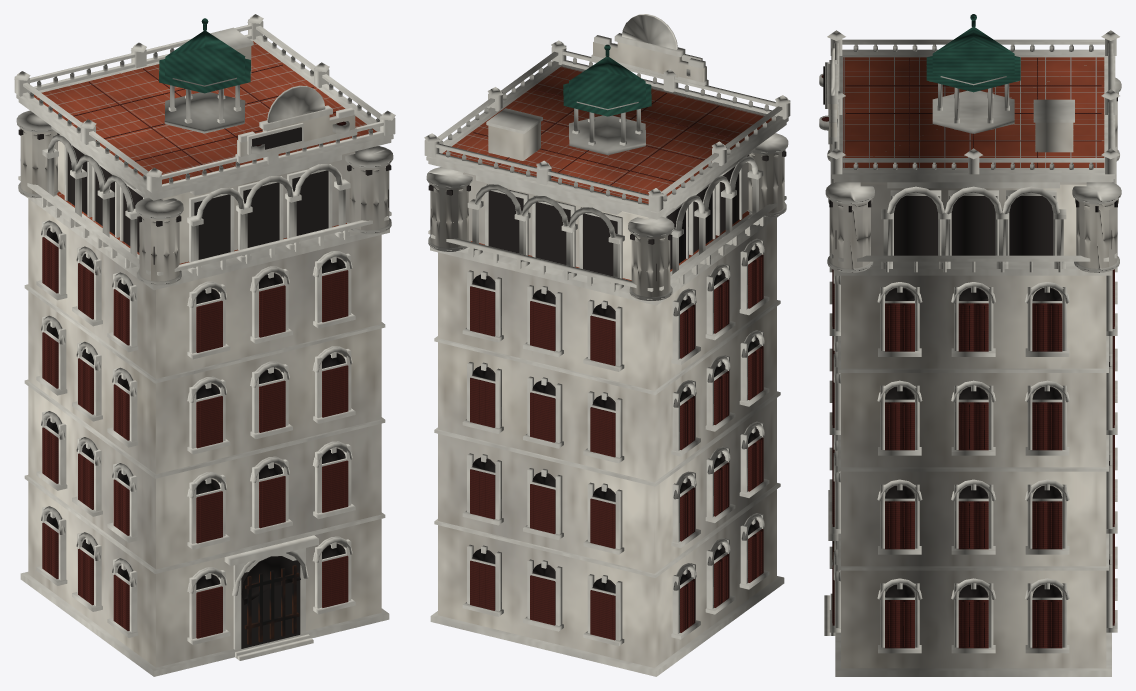
File: diaolou.glb
The picture shows the model from 3 angles, left to right: view 1: azimuth 30°, elevation 25°; view 2: azimuth 150°, elevation 25°; view 3: azimuth 270°, elevation 25°; orthographic projection. The views are drawn at different scales.
Parts seen in each view (by area): view 1: Diaolou; view 2: Diaolou; view 3: Diaolou.
Boxes of the visible parts, x1,y1,x2,y2 form: Diaolou: (14,14,395,676); Diaolou: (424,14,790,676); Diaolou: (819,14,1121,676).
Size of the model in its own units: 0.5 by 1.1 by 0.5.
8 materials, 7 textured.
